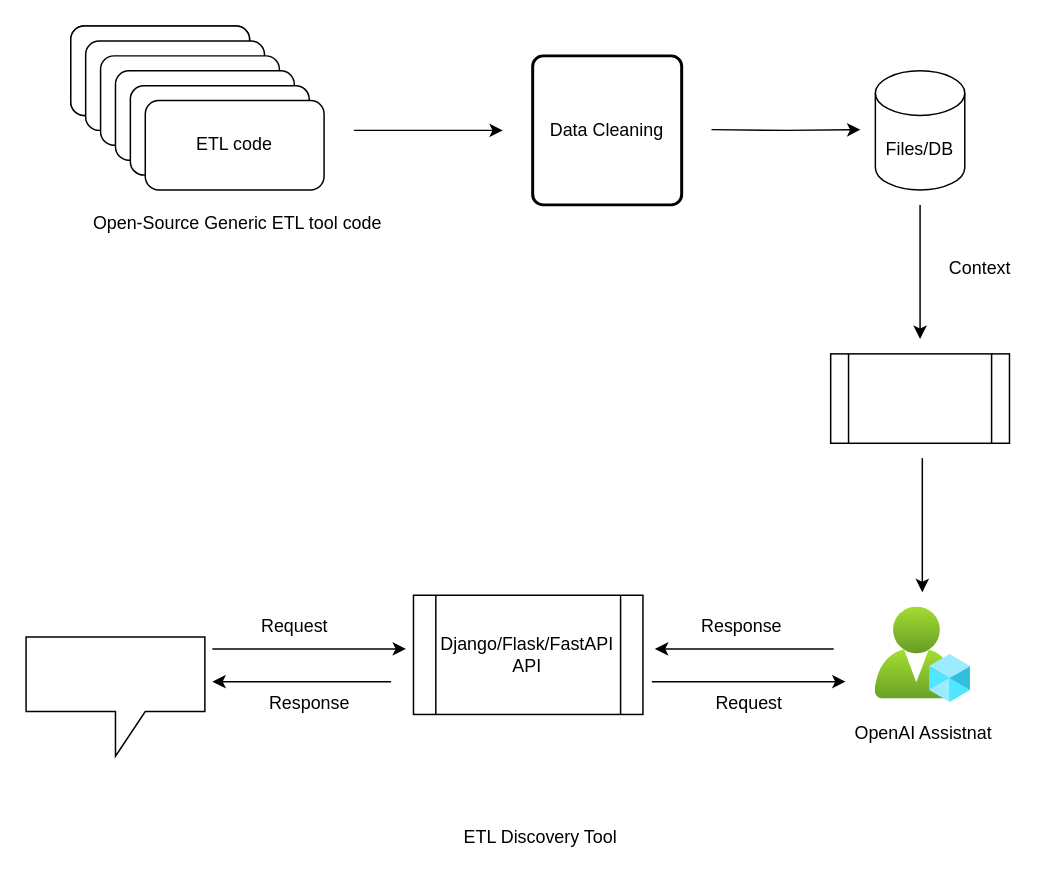
Some shapes in this 1050 by 887 pixel diagram are drawn without their labels. The centre of each missing label's shape, as x and y in pixels:
"Chat Frontend (Streamlit)" goes at (x=115, y=695).
"OpenAI Assistant creation via API" goes at (x=919, y=397).
